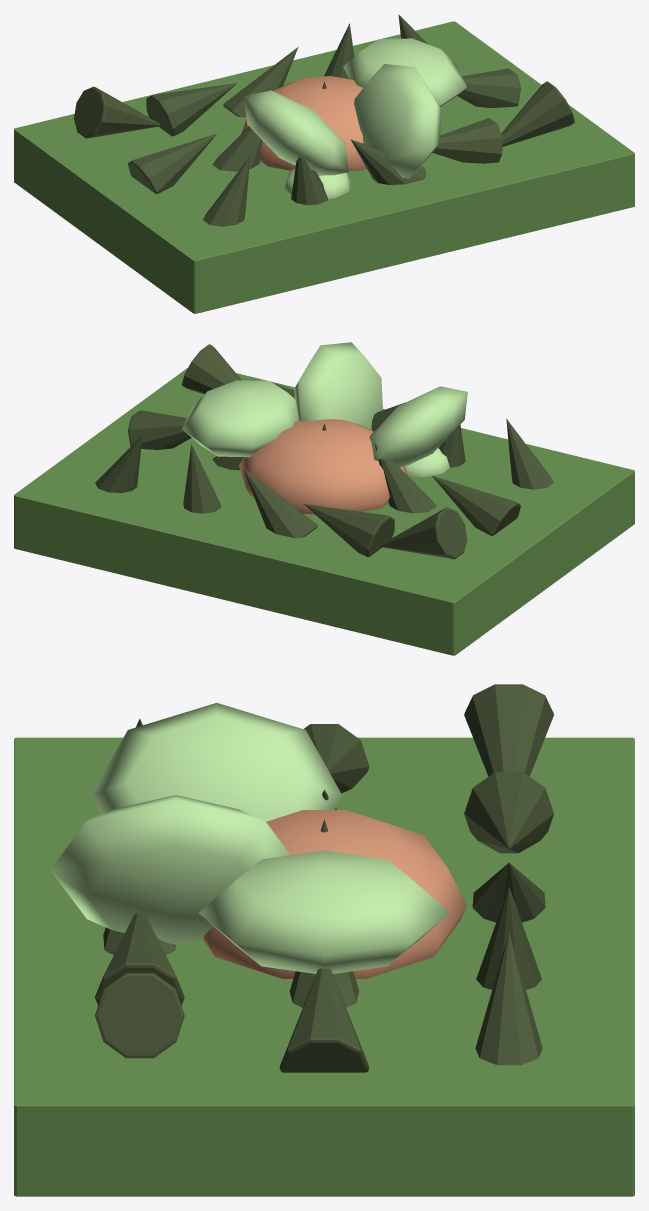
Rendered from briar-mat.glb.
The picture shows the model from 3 angles, top to bottom: view 1: azimuth 30°, elevation 25°; view 2: azimuth 150°, elevation 25°; view 3: azimuth 270°, elevation 25°; orthographic projection. The views are drawn at different scales.
Visible parts, largest first — view 1: mat, leaf_spread_1.2, leaf_spread_2.4, flower, leaf_spread_0.0, thorn_-0.34_-0.22, thorn_0.34_0.22, thorn_-0.17_-0.22, thorn_-0.34_0.0, thorn_0.17_0.22, thorn_0.34_0.0, thorn_-0.34_0.22 (+6 smaller); view 2: mat, flower, leaf_spread_0.0, leaf_spread_1.2, leaf_spread_2.4, thorn_-0.34_-0.22, thorn_-0.17_-0.22, thorn_-0.34_0.0, thorn_0.0_-0.22, thorn_0.34_0.0, thorn_0.34_0.22, thorn_-0.17_0.0 (+5 smaller); view 3: mat, leaf_spread_1.2, leaf_spread_0.0, leaf_spread_2.4, flower, thorn_-0.34_-0.22, thorn_0.34_0.22, thorn_-0.17_-0.22, thorn_0.34_0.0, thorn_0.34_-0.22, thorn_0.17_0.22, thorn_0.17_-0.22 (+3 smaller).
Boxes of the visible parts, x1,y1,x2,y2 form: mat: (14,21,634,313); leaf_spread_1.2: (354,64,441,178); leaf_spread_2.4: (244,90,348,175); flower: (241,76,366,171); leaf_spread_0.0: (343,38,466,108); thorn_-0.34_-0.22: (74,86,160,138); thorn_0.34_0.22: (501,81,574,146); thorn_-0.17_-0.22: (146,83,237,136); thorn_-0.34_0.0: (128,134,216,193); thorn_0.17_0.22: (432,118,502,163); thorn_0.34_0.0: (457,68,520,108); thorn_-0.34_0.22: (203,156,250,226); mat: (14,368,634,655); flower: (239,419,407,514); leaf_spread_0.0: (182,380,299,457); leaf_spread_1.2: (294,342,382,429); leaf_spread_2.4: (369,386,467,467); thorn_-0.34_-0.22: (380,507,466,559); thorn_-0.17_-0.22: (304,504,394,557); thorn_-0.34_0.0: (432,475,520,535); thorn_0.0_-0.22: (243,468,317,538); thorn_0.34_0.0: (128,410,191,449); thorn_0.34_0.22: (182,344,241,394); thorn_-0.17_0.0: (374,443,436,513); mat: (14,737,634,1196); leaf_spread_1.2: (50,795,290,944); leaf_spread_0.0: (199,850,449,973); leaf_spread_2.4: (91,703,342,821); flower: (202,810,466,978); thorn_-0.34_-0.22: (464,684,553,776); thorn_0.34_0.22: (95,973,184,1058); thorn_-0.17_-0.22: (464,772,553,853); thorn_0.34_0.0: (279,968,369,1072); thorn_0.34_-0.22: (475,932,542,1065); thorn_0.17_0.22: (95,913,184,1005); thorn_0.17_-0.22: (476,886,541,989).
Size of the model in its own units: 1.04 by 0.3618 by 0.74.
